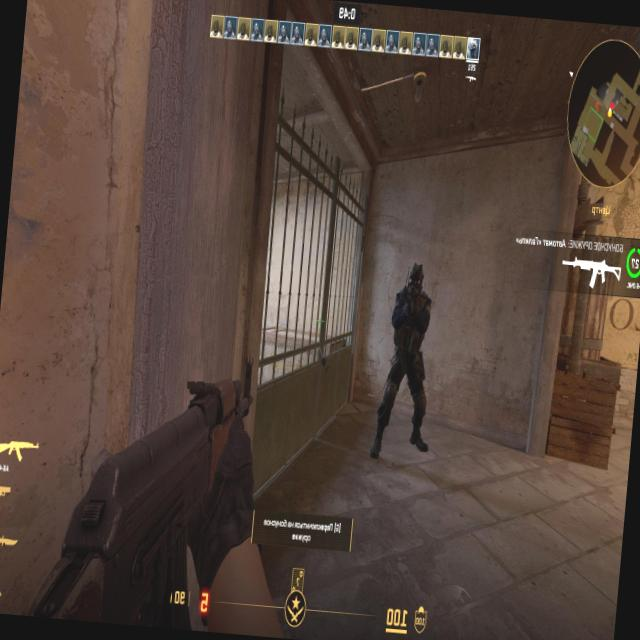CT: (386, 264, 431, 410)
CT_heat: (412, 267, 422, 286)
